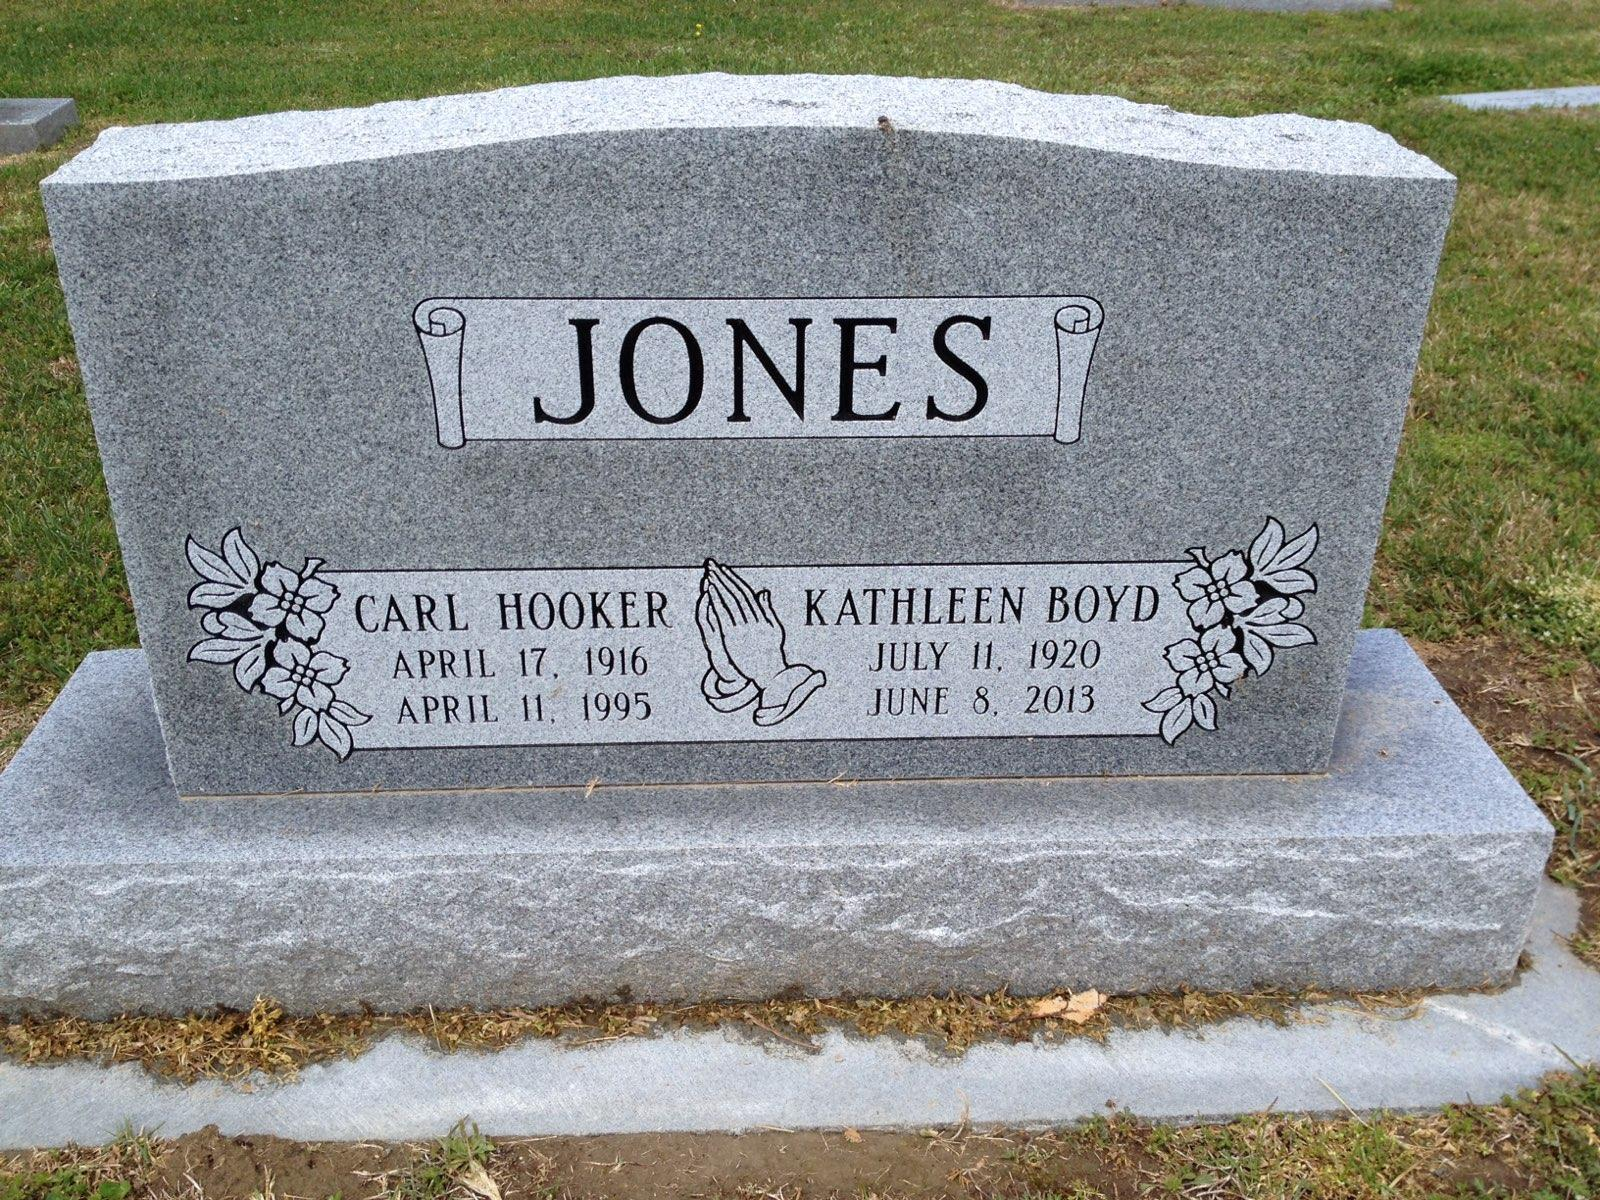upright: (13, 9, 1577, 1093)
